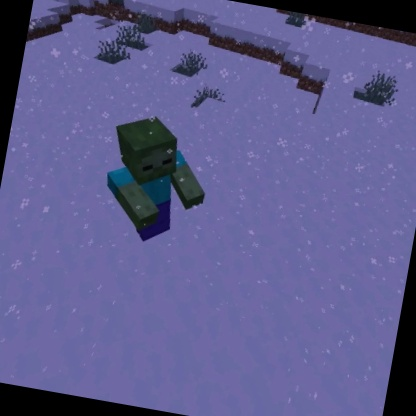zombie: (91, 105, 222, 256)
